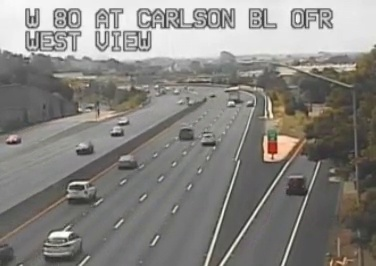car: (43, 230, 81, 258), (66, 181, 96, 200), (286, 176, 306, 195), (117, 155, 136, 168), (178, 128, 193, 140), (201, 133, 215, 144)
